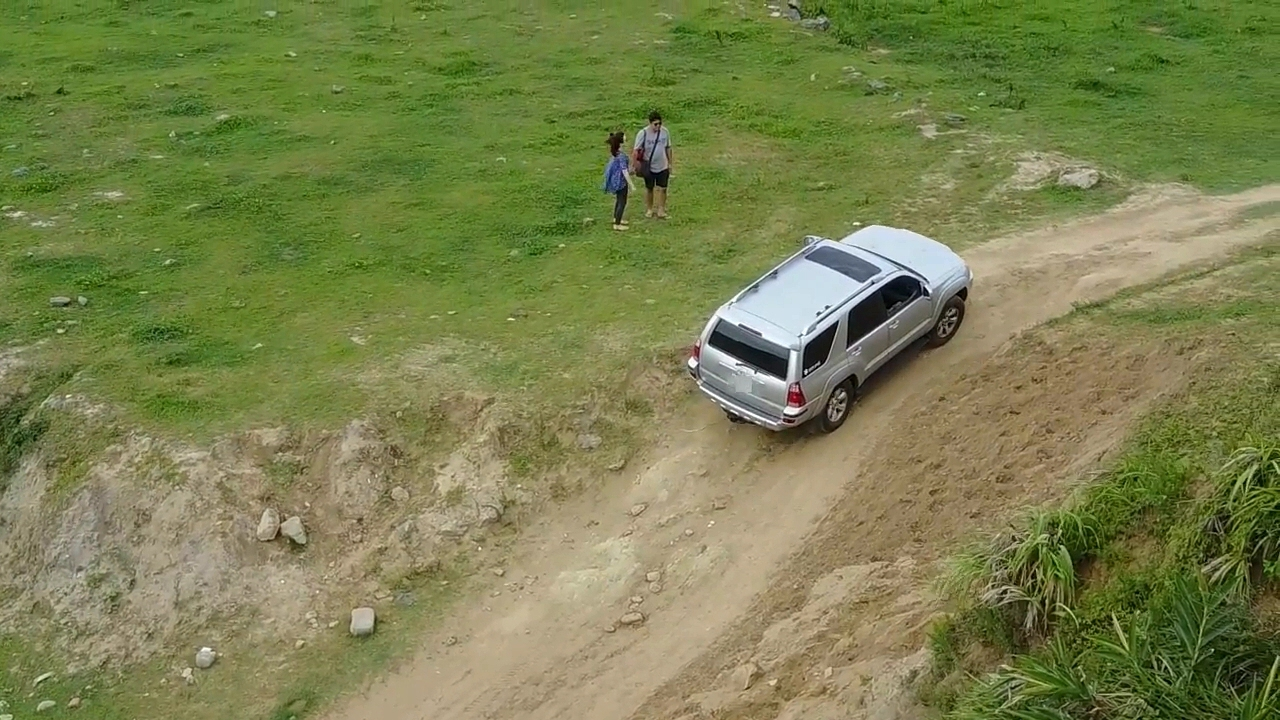araba: (685, 202, 977, 442)
insan: (635, 109, 677, 224), (599, 118, 635, 232)
